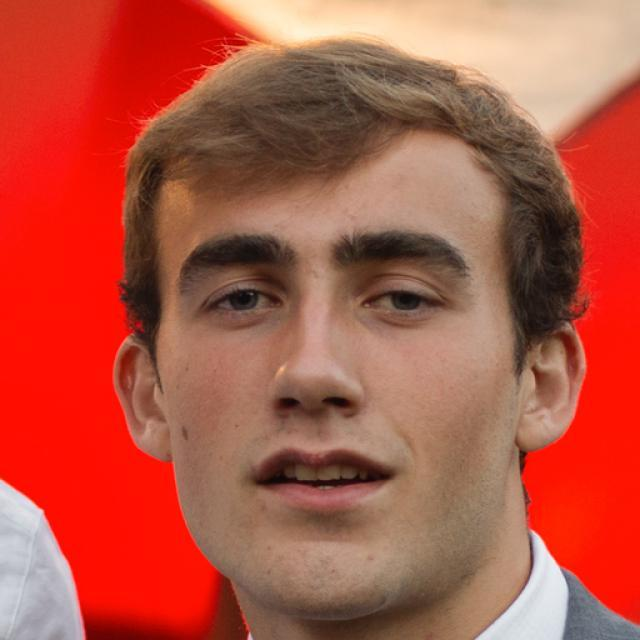neutral: (158, 132, 526, 620)
